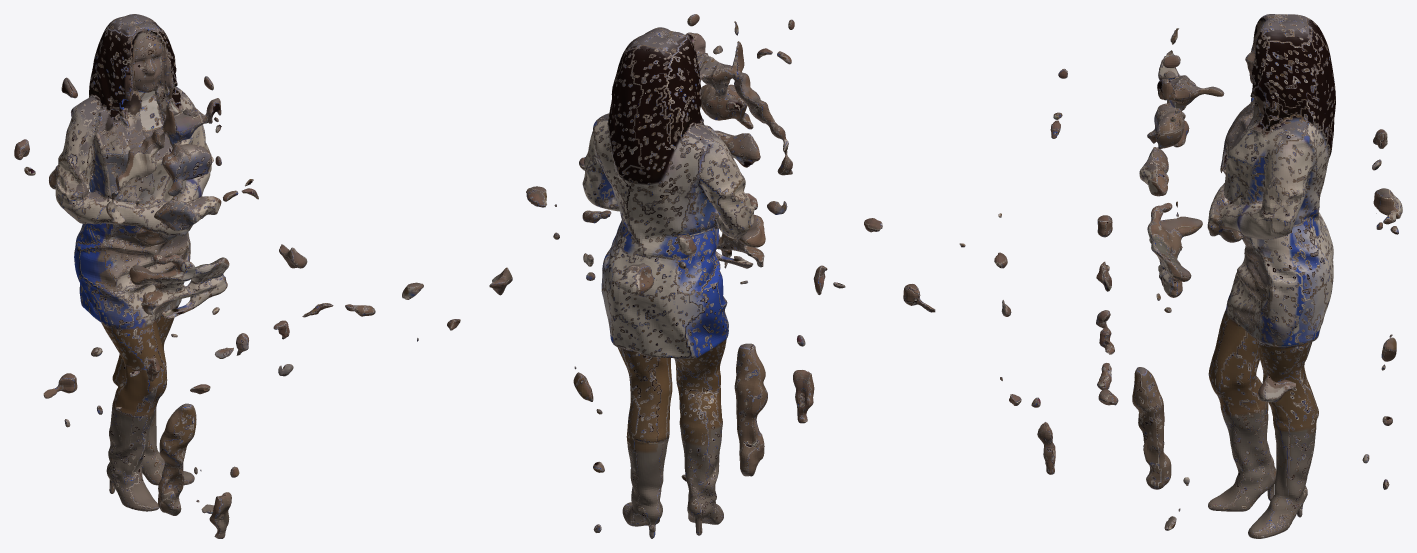
File: gen-zola-v8-bright.glb
The picture shows the model from 3 angles, left to right: view 1: azimuth 30°, elevation 25°; view 2: azimuth 150°, elevation 25°; view 3: azimuth 270°, elevation 25°; orthographic projection. The views are drawn at different scales.
Parts seen in each view (by area): view 1: geometry_0; view 2: geometry_0; view 3: geometry_0.
Part boxes in pixels (x1,y1,x2,y2): geometry_0: (14, 14, 460, 538); geometry_0: (489, 14, 965, 538); geometry_0: (994, 14, 1402, 538).
Size of the model in its own units: 1.69 by 1.96 by 1.46.
1 material, 1 textured.
